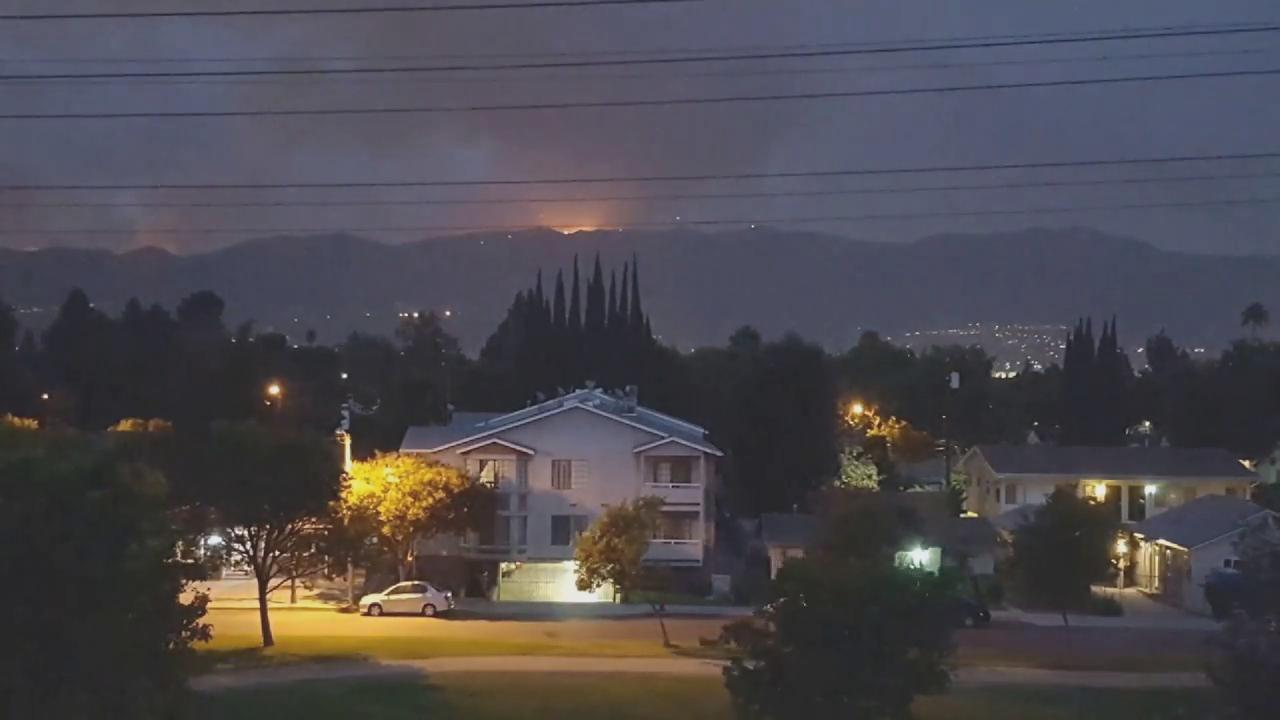fire: (549, 221, 605, 234)
